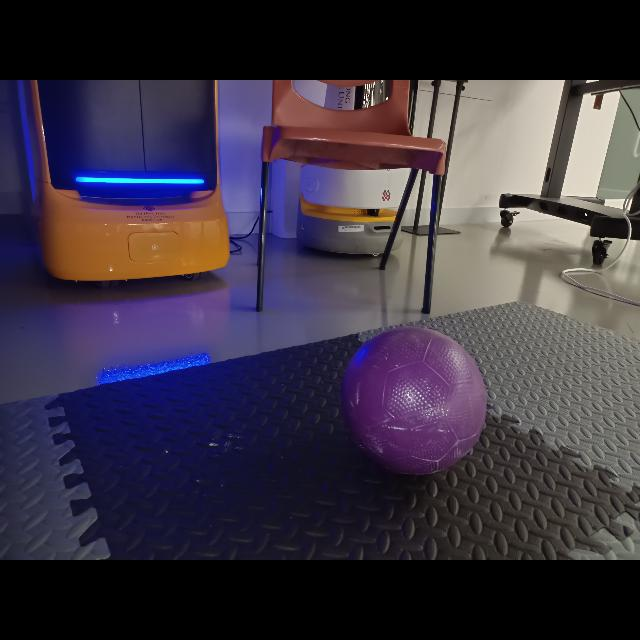P: (342, 328, 490, 472)
